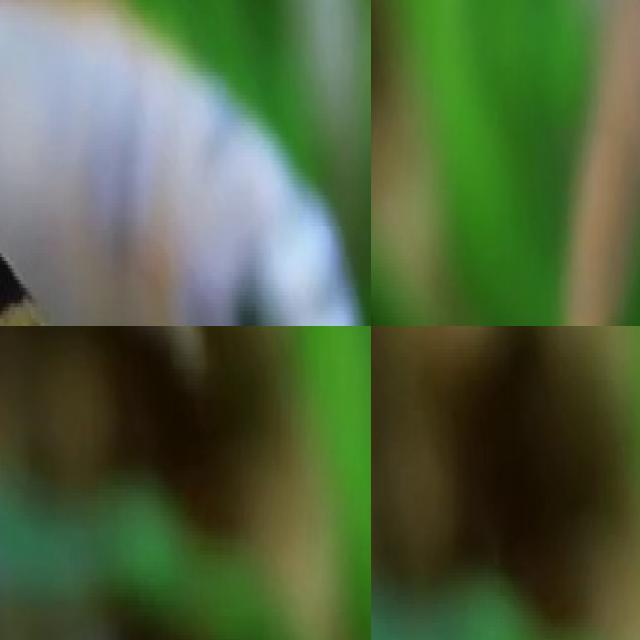fish: (0, 0, 371, 326), (0, 326, 109, 640)
